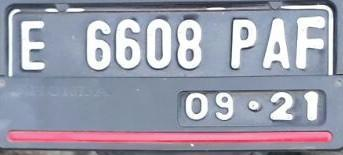0: (142, 14, 174, 72)
6: (81, 18, 116, 72), (114, 16, 147, 72)
8: (171, 15, 205, 72)
A: (258, 15, 294, 70)
E: (18, 20, 53, 73)
F: (290, 16, 332, 72)
P: (228, 16, 260, 72)
